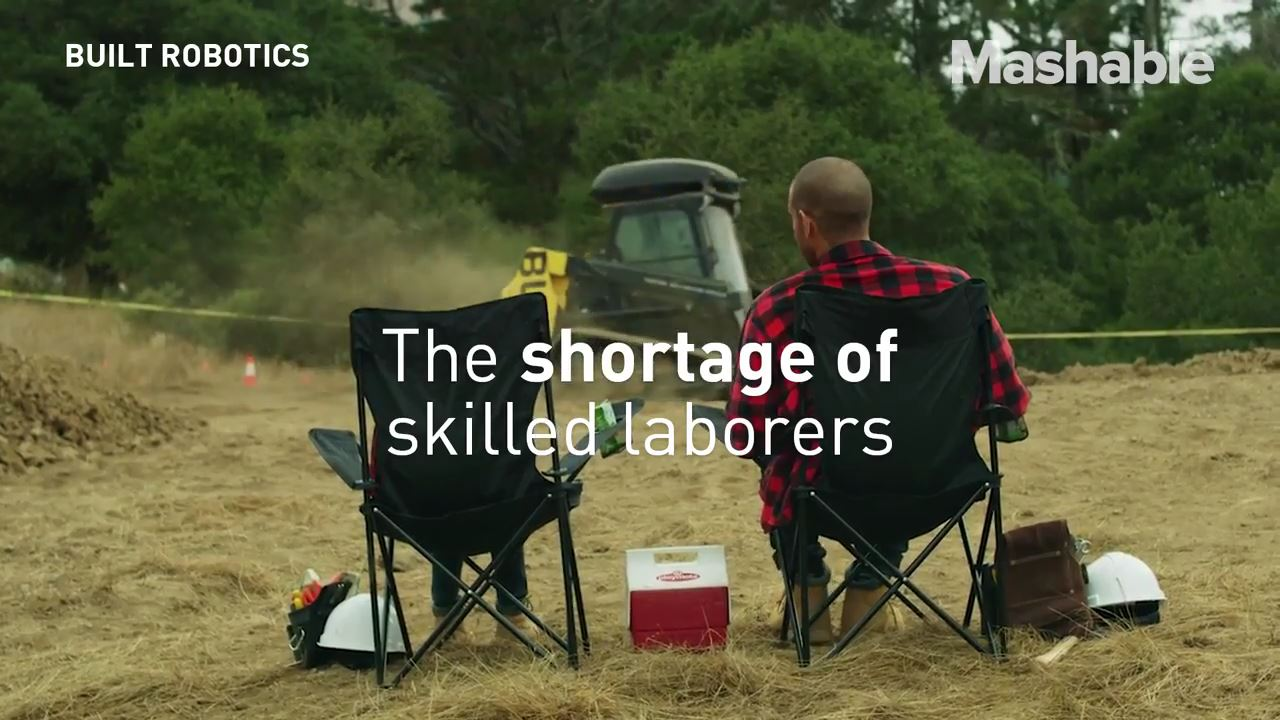con_eq: (459, 139, 867, 405)
